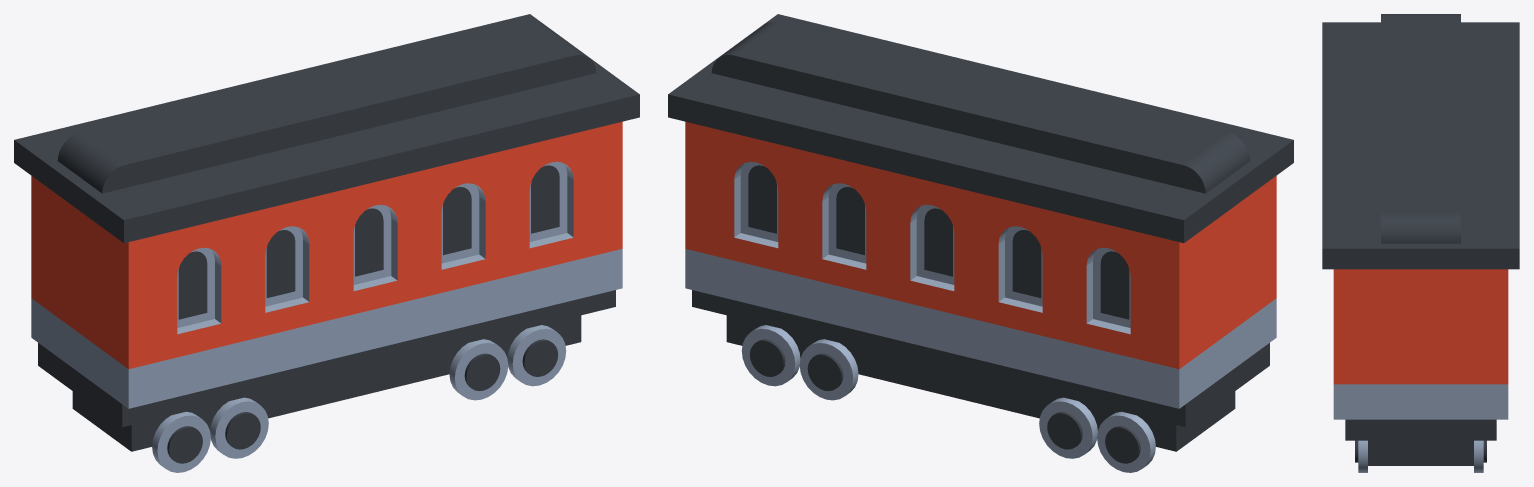
The model's file is trainWagon.fbx.
3 renders of one model, left to right at view 1: azimuth 30°, elevation 25°; view 2: azimuth 150°, elevation 25°; view 3: azimuth 270°, elevation 25°, orthographic. The views are drawn at different scales.
Visible parts, largest first — view 1: trainWagon; view 2: trainWagon; view 3: trainWagon.
Part boxes in pixels (left/top/right/bottom): trainWagon: left=14, top=14, right=639, bottom=472; trainWagon: left=668, top=14, right=1293, bottom=472; trainWagon: left=1322, top=14, right=1519, bottom=472.
Size of the model in its own units: 4.68 by 2.68 by 1.73.
